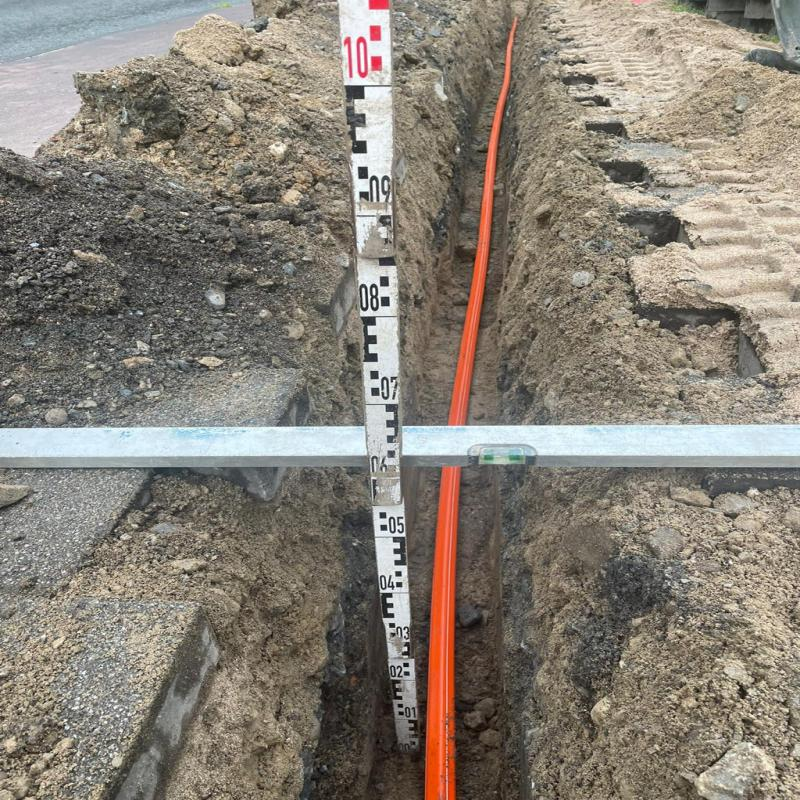Orang-Speednetrohrchen: (444, 19, 521, 422), (423, 469, 460, 800)
